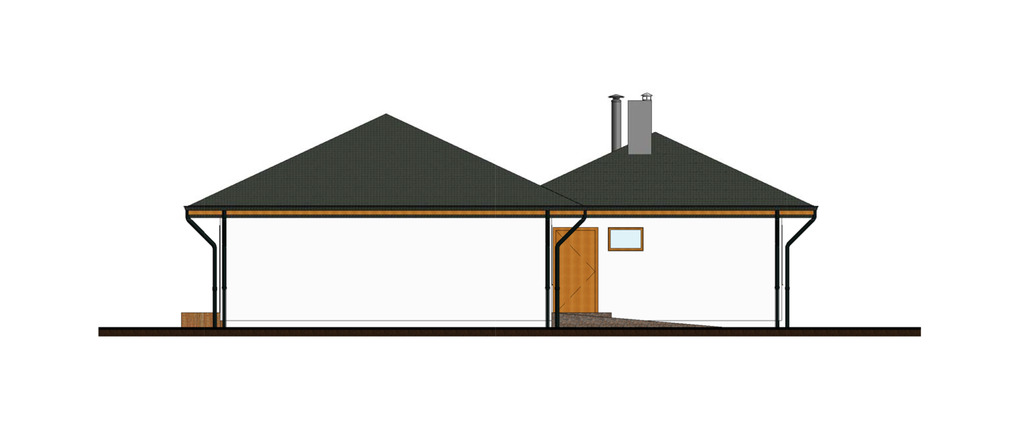door: (550, 223, 600, 321)
window: (604, 222, 657, 256)
